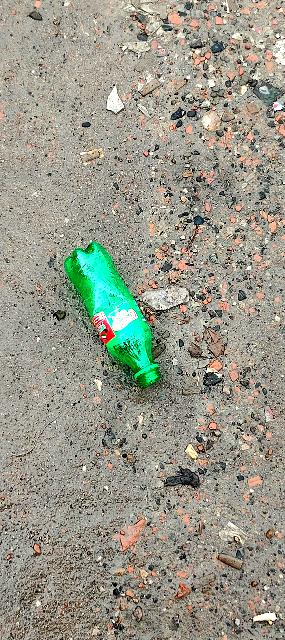bottle: (50, 234, 162, 405)
